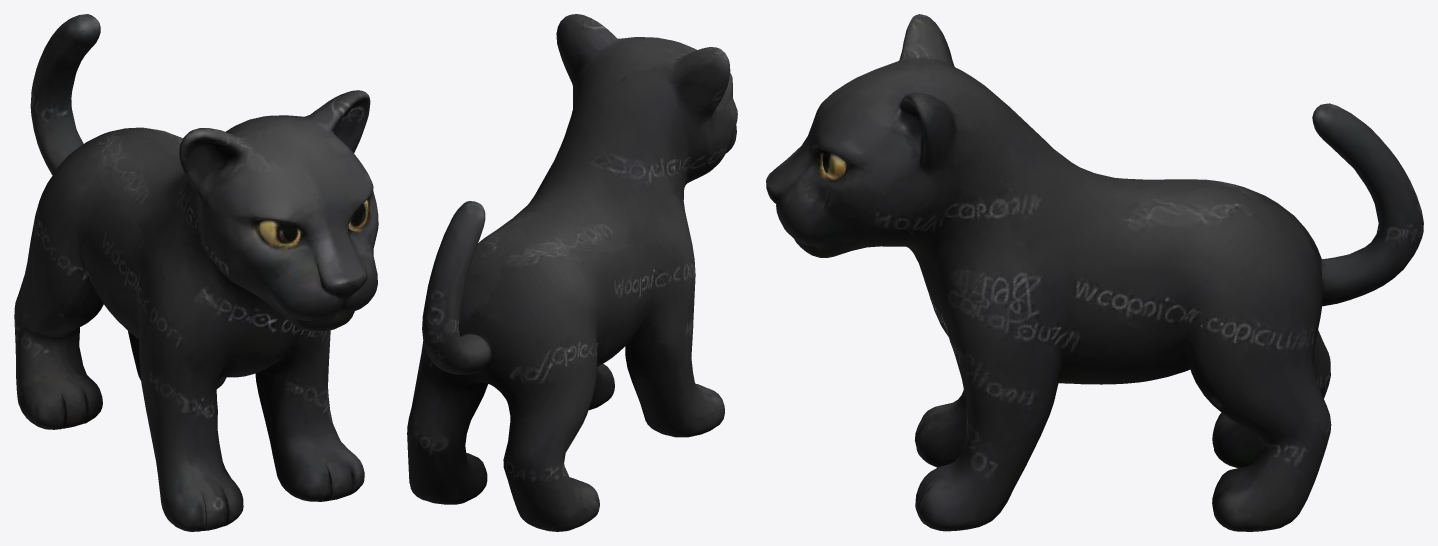
The model's file is panther_pbr.glb.
3 renders of one model, left to right at view 1: azimuth 30°, elevation 25°; view 2: azimuth 150°, elevation 25°; view 3: azimuth 270°, elevation 25°, orthographic. The views are drawn at different scales.
Visible parts, largest first — view 1: model.012; view 2: model.012; view 3: model.012.
Boxes of the visible parts, x1,y1,x2,y2 form: model.012: (14,14,378,531); model.012: (407,14,737,531); model.012: (766,14,1423,531).
Bounding box in the file's own units: 0.7219 × 1.46 × 2.02.
1 material, 1 textured.
